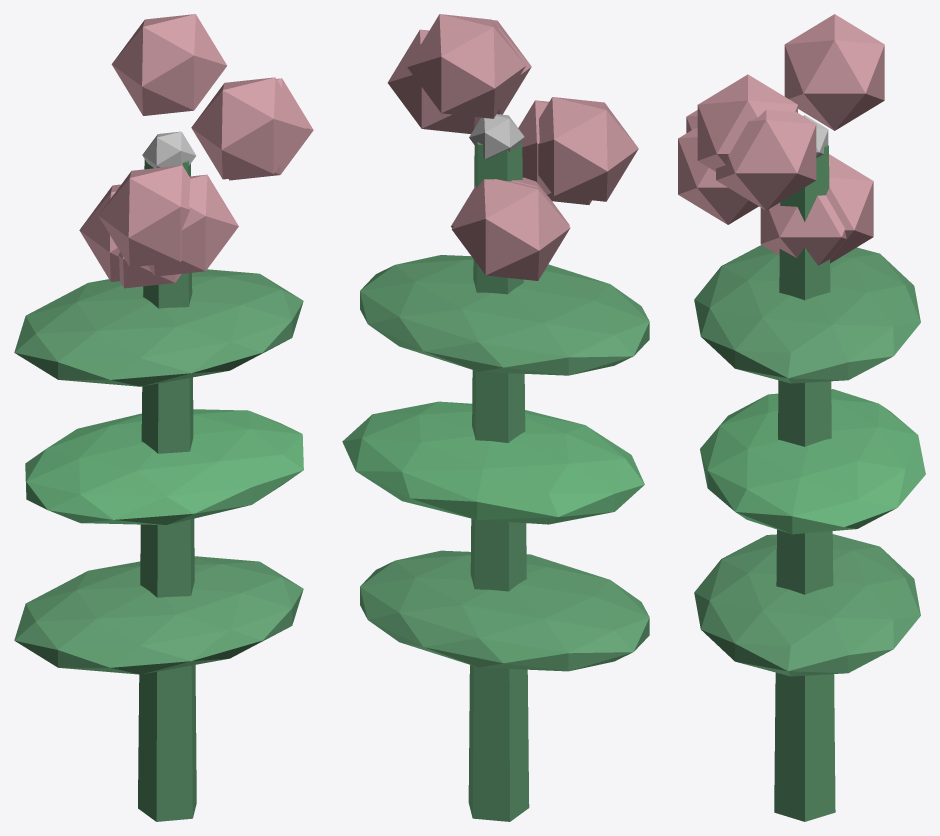
File: mimosa-pudica.glb
3 views of the same model, side by side, from view 1: azimuth 30°, elevation 25°; view 2: azimuth 150°, elevation 25°; view 3: azimuth 270°, elevation 25° (orthographic). The views are drawn at different scales.
Parts seen in each view (by area): view 1: leaf0, leaf2, leaf1, stem, bud0, bud3, bud1, bud5, bud2, head, bud6, bud4; view 2: leaf1, leaf0, leaf2, stem, bud3, bud2, bud1, bud4, bud5, head, bud0; view 3: leaf1, leaf0, leaf2, stem, bud3, bud4, bud0, bud6, bud5, bud2.
Part boxes in pixels (x1=…): leaf0: x1=14, y1=556, x2=303, y2=674; leaf2: x1=14, y1=269, x2=303, y2=386; leaf1: x1=25, y1=409, x2=303, y2=525; stem: x1=138, y1=159, x2=196, y2=821; bud0: x1=191, y1=77, x2=306, y2=179; bud3: x1=111, y1=14, x2=227, y2=115; bud1: x1=98, y1=165, x2=190, y2=267; bud5: x1=148, y1=174, x2=238, y2=276; bud2: x1=79, y1=184, x2=120, y2=281; head: x1=142, y1=131, x2=196, y2=168; bud6: x1=118, y1=252, x2=181, y2=288; bud4: x1=229, y1=78, x2=313, y2=180; leaf1: x1=342, y1=401, x2=644, y2=524; leaf0: x1=360, y1=550, x2=649, y2=671; leaf2: x1=360, y1=255, x2=649, y2=375; stem: x1=468, y1=141, x2=529, y2=821; bud3: x1=407, y1=14, x2=525, y2=118; bud2: x1=451, y1=179, x2=570, y2=280; bud1: x1=538, y1=97, x2=638, y2=201; bud4: x1=387, y1=29, x2=480, y2=133; bud5: x1=518, y1=100, x2=591, y2=204; head: x1=469, y1=114, x2=524, y2=159; bud0: x1=492, y1=20, x2=531, y2=114; leaf1: x1=700, y1=389, x2=925, y2=534; leaf0: x1=694, y1=534, x2=920, y2=676; leaf2: x1=694, y1=245, x2=920, y2=383; stem: x1=774, y1=144, x2=835, y2=821; bud3: x1=784, y1=14, x2=884, y2=130; bud4: x1=716, y1=110, x2=816, y2=210; bud0: x1=697, y1=74, x2=797, y2=171; bud6: x1=760, y1=195, x2=846, y2=265; bud5: x1=678, y1=128, x2=758, y2=224; bud2: x1=826, y1=154, x2=873, y2=263.
Size of the model in its own units: 0.1405 by 0.378 by 0.1077.
